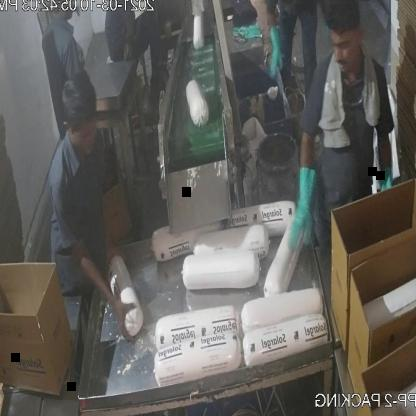glove: (278, 163, 324, 262), (268, 22, 286, 80)
no_glove: (65, 215, 136, 356)
